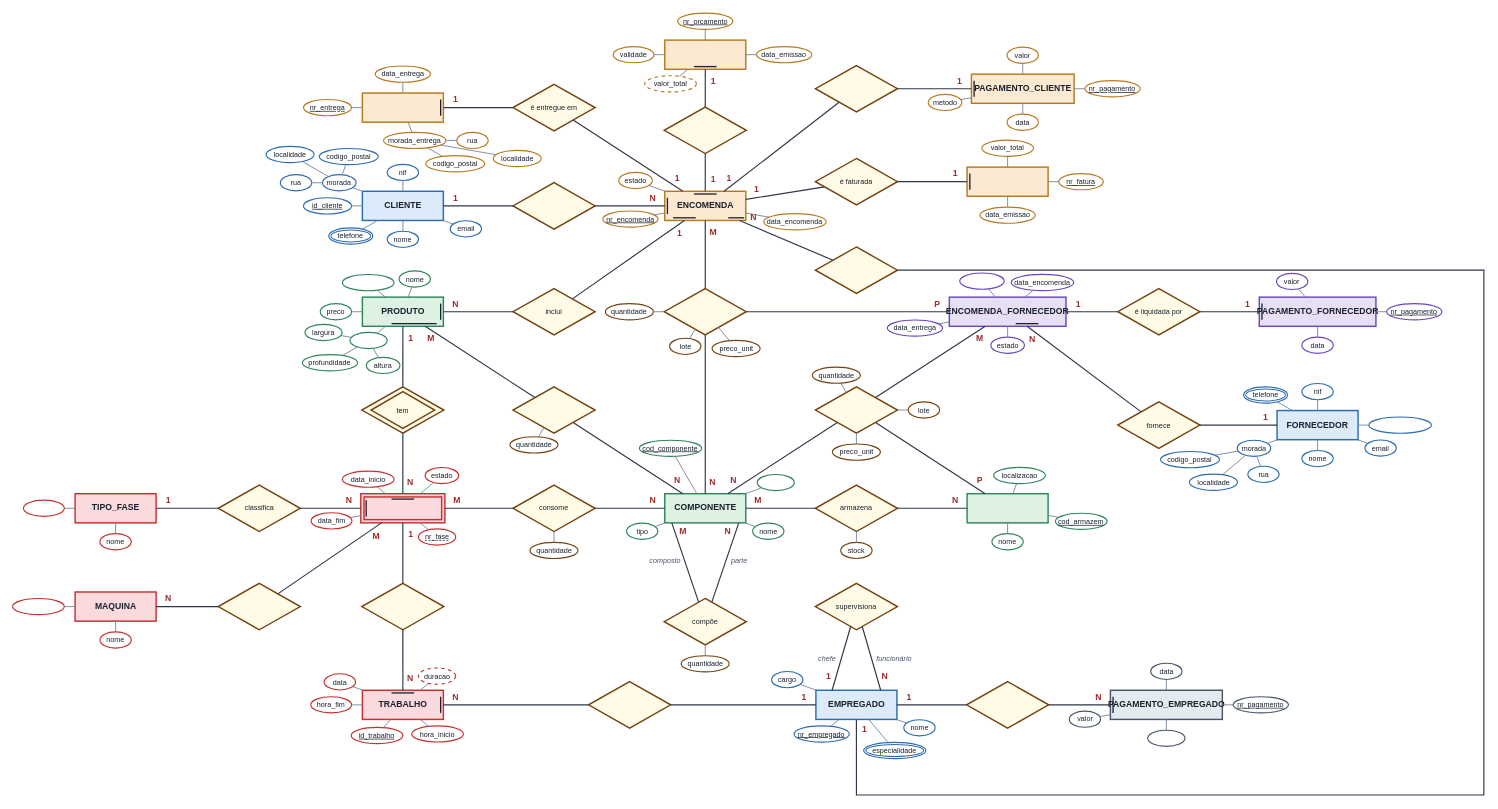
Image size: 1498x809. Some labels were removed from this diagram. Each missing label, with the box of its shape:
abastece: (663, 287, 747, 335)
ARMAZEM: (966, 493, 1048, 523)
cod_fornecedor: (1368, 416, 1432, 433)
cod_maquina: (12, 598, 65, 615)
cod_produto: (341, 274, 394, 291)
cod_tipo: (23, 499, 65, 517)
ENTREGA: (361, 92, 444, 123)
FASE_PRODUCAO: (360, 493, 445, 523)
FATURA: (966, 166, 1048, 197)
faz: (512, 182, 595, 229)
medidas: (349, 331, 387, 349)
mes_ref: (1147, 729, 1185, 747)
nr_compra: (959, 272, 1004, 289)
ORCAMENTO: (664, 39, 746, 70)
reabastece: (814, 386, 898, 434)
realiza: (588, 681, 671, 728)
recebe: (966, 681, 1049, 728)
regista: (361, 582, 444, 630)
unidade: (756, 474, 795, 491)
usa: (217, 582, 301, 630)
utiliza: (512, 386, 595, 434)
vende: (814, 246, 898, 294)
é orçada em: (663, 106, 747, 154)
é paga por: (814, 64, 898, 112)
